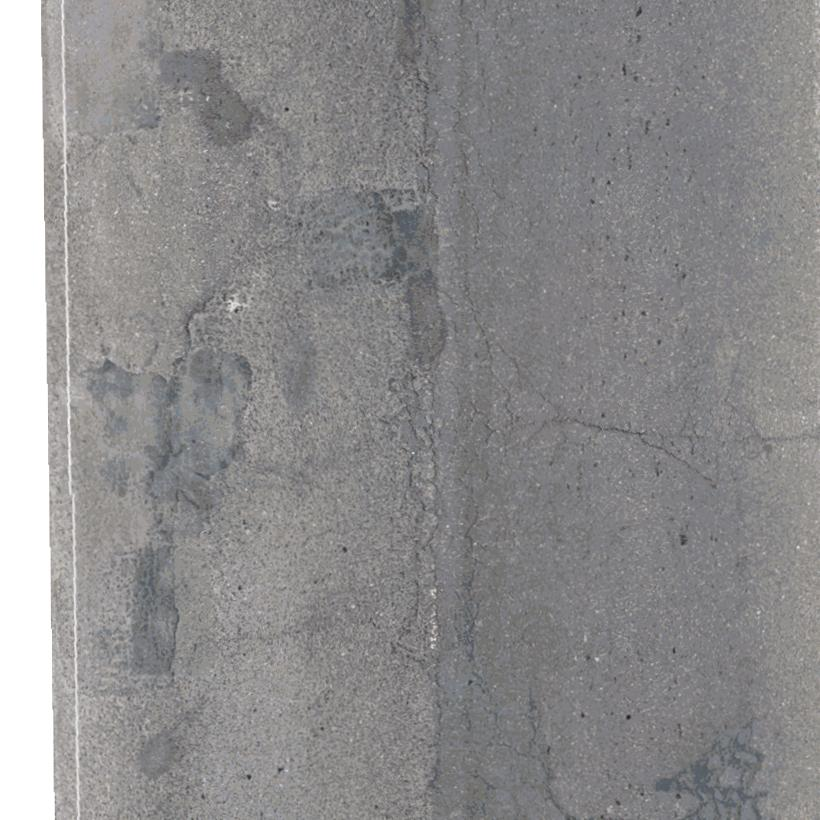GRIETA: (565, 417, 637, 435), (769, 434, 819, 443)
PARCHE: (92, 350, 250, 499), (307, 189, 423, 284), (159, 50, 252, 141), (128, 553, 176, 672)
PIEL DE COCODRILO: (378, 266, 588, 819), (397, 0, 522, 265), (634, 345, 771, 492), (182, 190, 300, 357), (647, 724, 772, 819)
